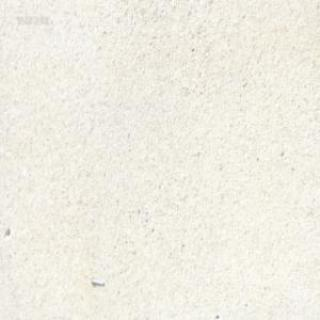Nailtrack_idkeyframe: (89, 275, 105, 285)
